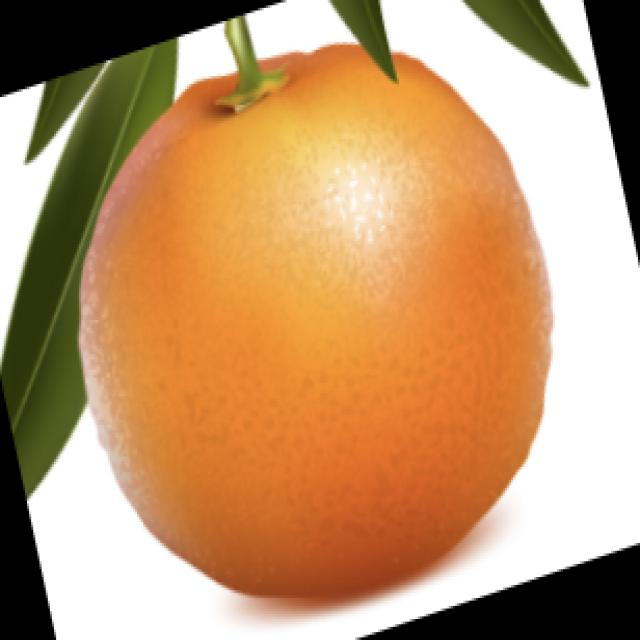fresh: (64, 7, 556, 608)
